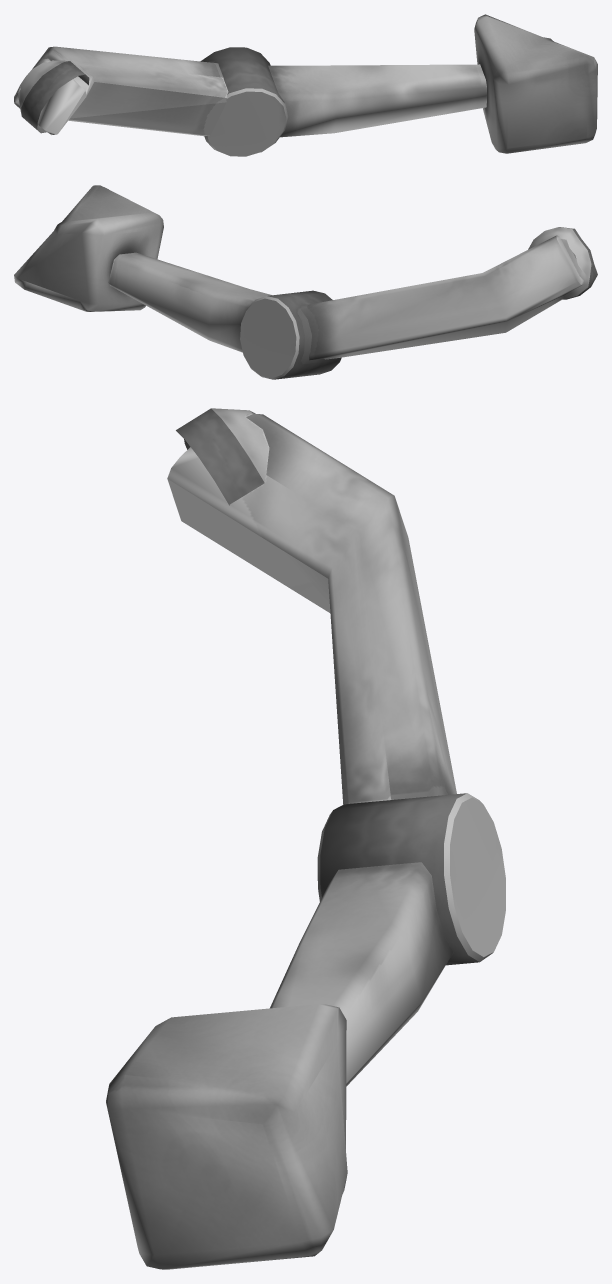
File: Bobot hand.glb
The picture shows the model from 3 angles, top to bottom: view 1: azimuth 30°, elevation 25°; view 2: azimuth 150°, elevation 25°; view 3: azimuth 270°, elevation 25°; orthographic projection. The views are drawn at different scales.
Parts seen in each view (by area): view 1: bobot hand; view 2: bobot hand; view 3: bobot hand.
Part boxes in pixels (box(x1,y1,x2,y2)): bobot hand: box(14, 14, 597, 156); bobot hand: box(14, 185, 597, 379); bobot hand: box(106, 408, 505, 1269).
Size of the model in its own units: 0.6552 by 0.2125 by 0.2042.
1 material, 1 textured.
